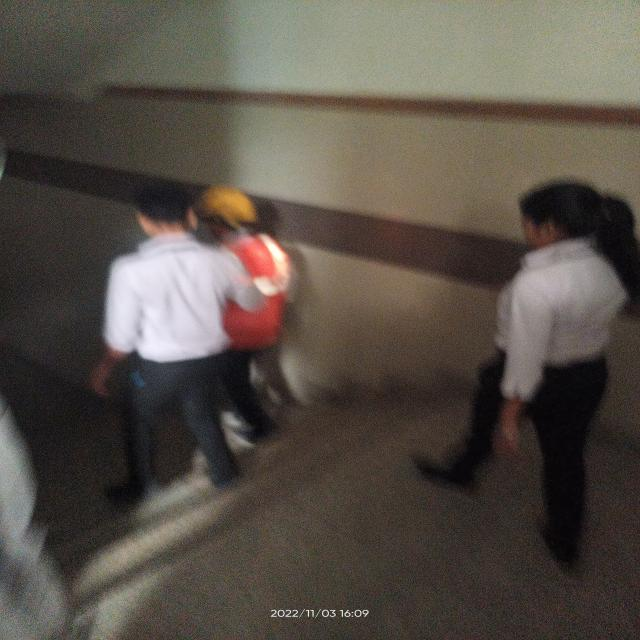unsafe: (410, 182, 640, 562), (86, 185, 252, 492)
